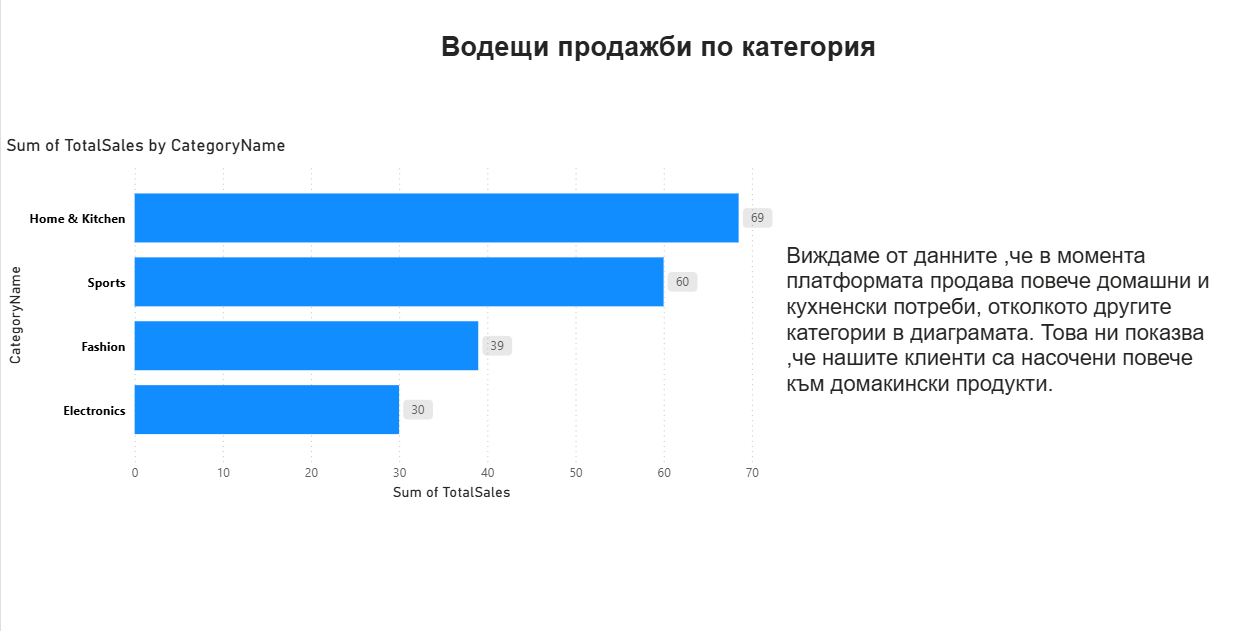

Layout of this report page (visuals, bound fields, positions):
{"tool":"powerbi","page":{"name":"Страница 1","canvas":[1280,720],"ordinal":0},"visuals":[{"type":"textbox","box":[416.3,80.7,446.4,42.8],"z":0},{"type":"clusteredBarChart","fields":{"Category":["V_SalesByCategory.CategoryName"],"Y":["Sum(V_SalesByCategory.TotalSales)"]},"box":[0,186.7,758.7,359.9],"z":1000},{"type":"textbox","box":[758.7,286.9,446.4,179],"z":2002}]}

Visuals, with their boxes on the page's 1280x720 design canvas (x1, y1, x2, y2). These are canvas units, not pixel positions in the 1234x631 screenshot, which may show the page scaled, cropped or inside an application window:
textbox: bbox(416, 81, 863, 124)
clusteredBarChart - V_SalesByCategory.CategoryName x Sum(V_SalesByCategory.TotalSales): bbox(0, 187, 759, 547)
textbox: bbox(759, 287, 1205, 466)
